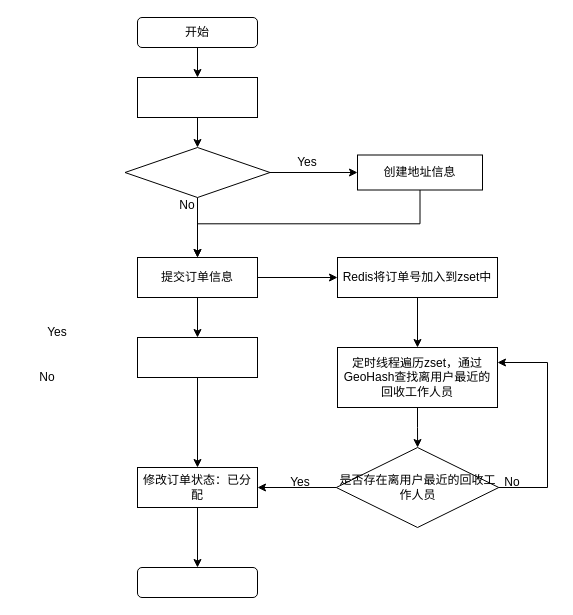
Some shapes in this 573 by 615 pixel diagram are drawn without their labels. Here are the shapes that lost their labels. From the top down, the centre of each, then its label:
At (197,97): "填写上门订单信息".
At (197,172): "地址信息列表是否为空".
At (197,357): "创建订单初始状态：待分配".
At (197,582): "结束".
